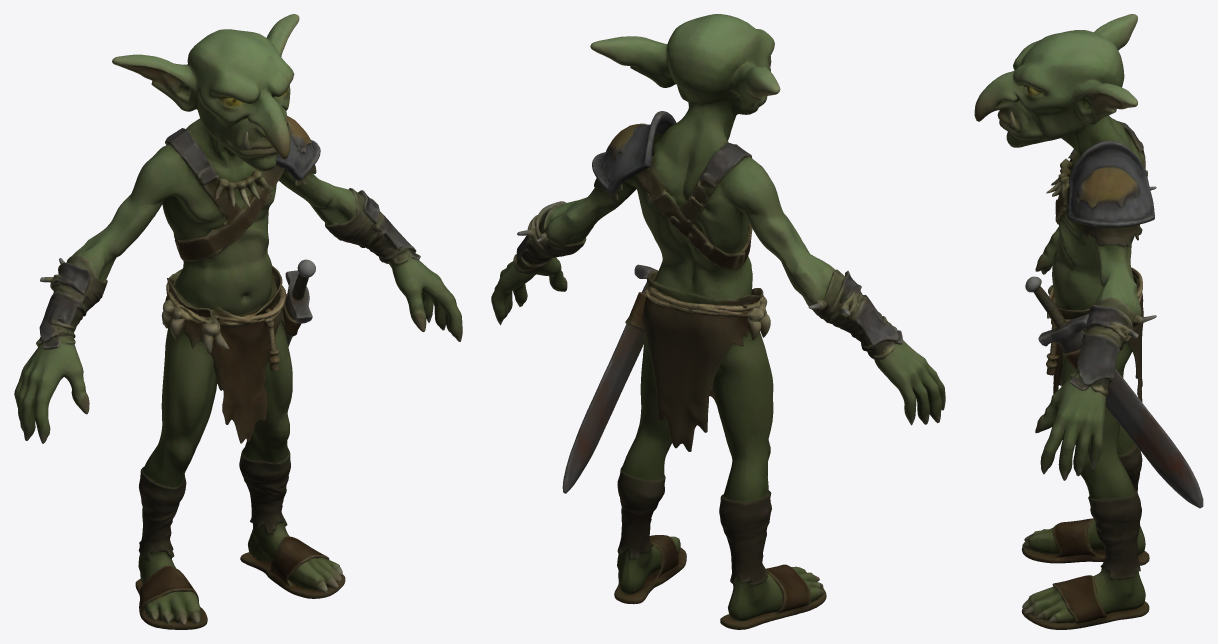
File: gobelin_guerrier_meshy.glb
3 renders of one model, left to right at view 1: azimuth 30°, elevation 25°; view 2: azimuth 150°, elevation 25°; view 3: azimuth 270°, elevation 25°, orthographic. The views are drawn at different scales.
Visible parts, largest first — view 1: world; view 2: world; view 3: world.
Part boxes in pixels (x1,y1,x2,y2): world: [14, 14, 462, 629]; world: [491, 14, 945, 629]; world: [974, 14, 1203, 629].
Bounding box in the file's own units: 0.813 × 1 × 0.3772.
Materials: 1 (1 with a texture image).
